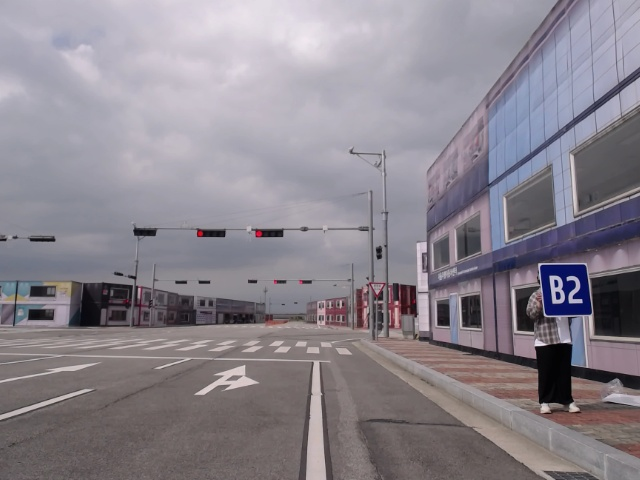delivery_b2: (539, 262, 596, 319)
red_4: (253, 225, 287, 238), (195, 227, 228, 238), (297, 278, 315, 286), (273, 279, 288, 285)
